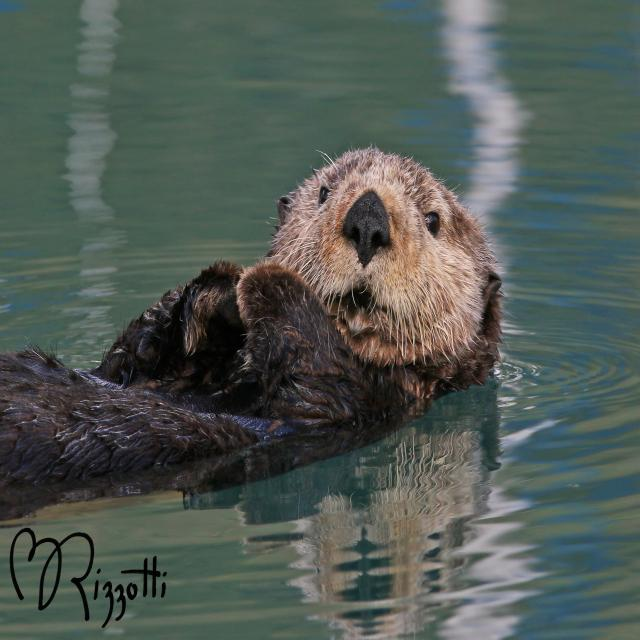otter: (1, 148, 500, 481)
